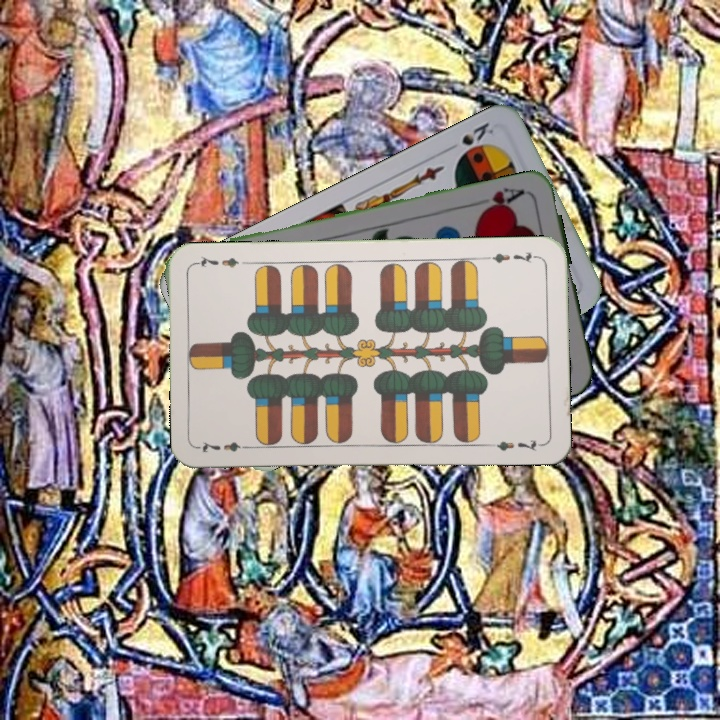E7: (482, 247, 541, 266), (196, 437, 255, 455)
HA: (478, 183, 527, 216)
SK: (454, 118, 497, 160)
